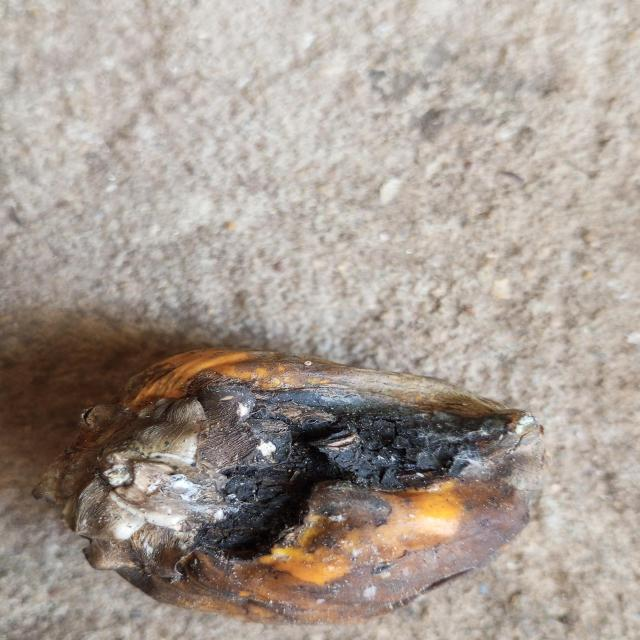damaged: (35, 349, 544, 622)
